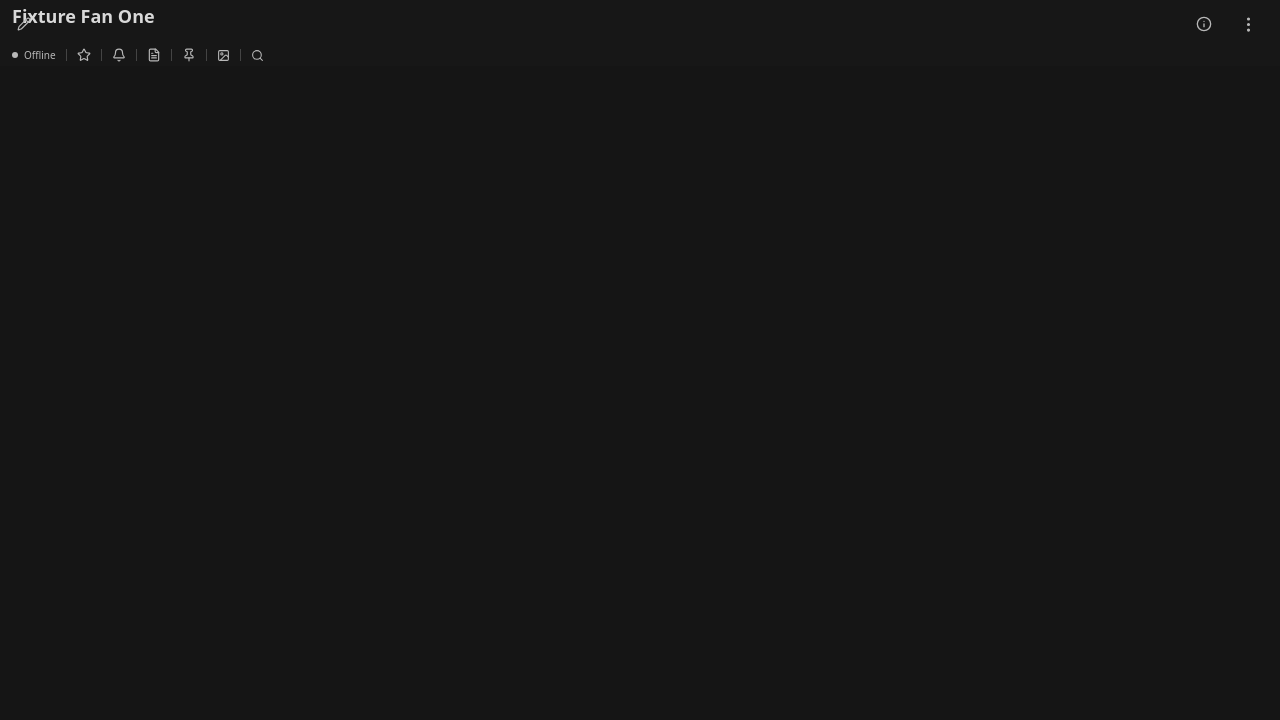
it: ChatHeader › Avatar menu (ticket 95) › "Add to lists ▸" lists the Creator's lists from the chat-folders route with the Fan's marked; a click POSTs the Fan onto a list, or DELETEs them from one they a
Step 1. Click the text "Fixture Fan One" → (83, 16), box [12, 4, 155, 28]
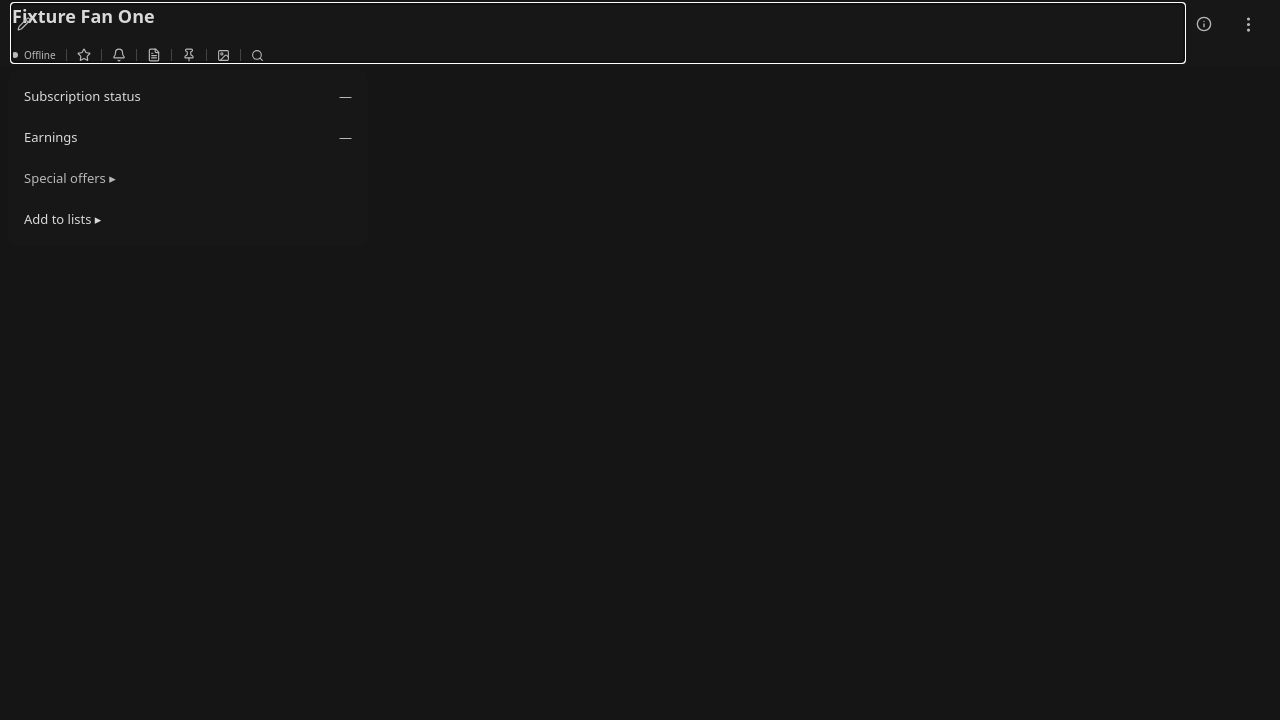
Step 2. Click the button "Add to lists ▸" → (63, 219), box [14, 199, 362, 240]
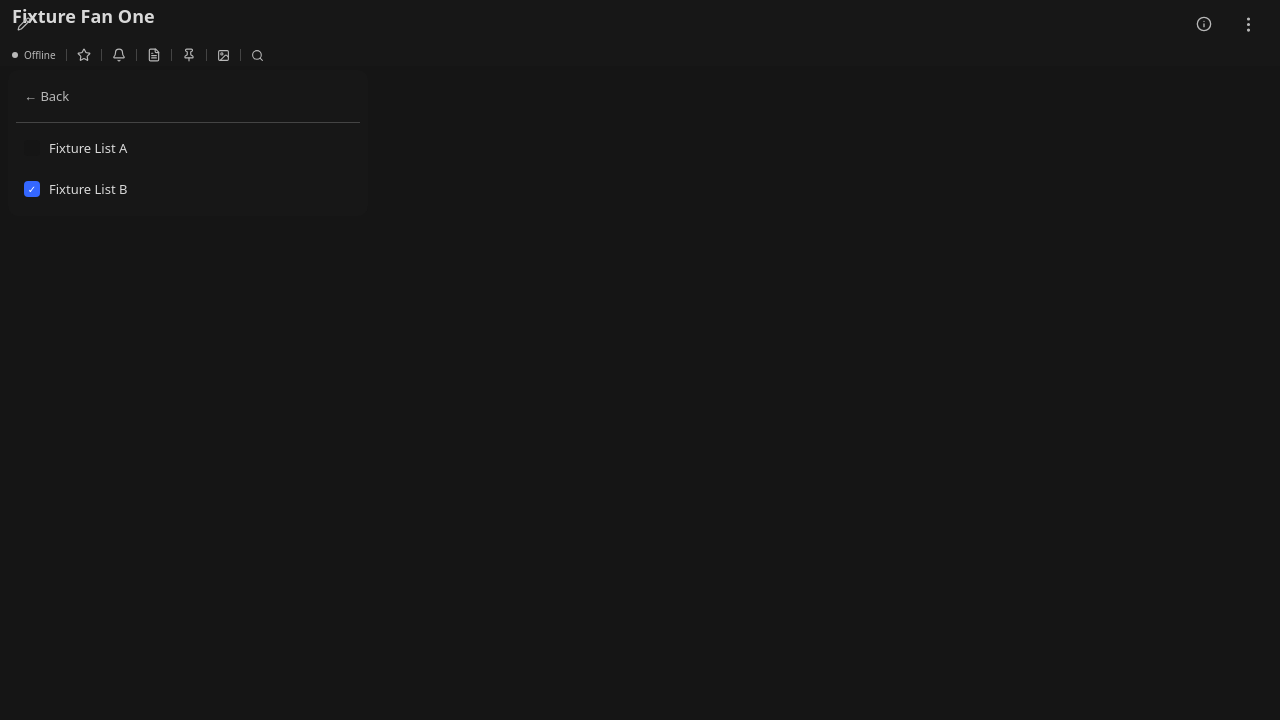
Step 3. Click the button "Fixture List A" → (88, 148), box [14, 128, 362, 169]
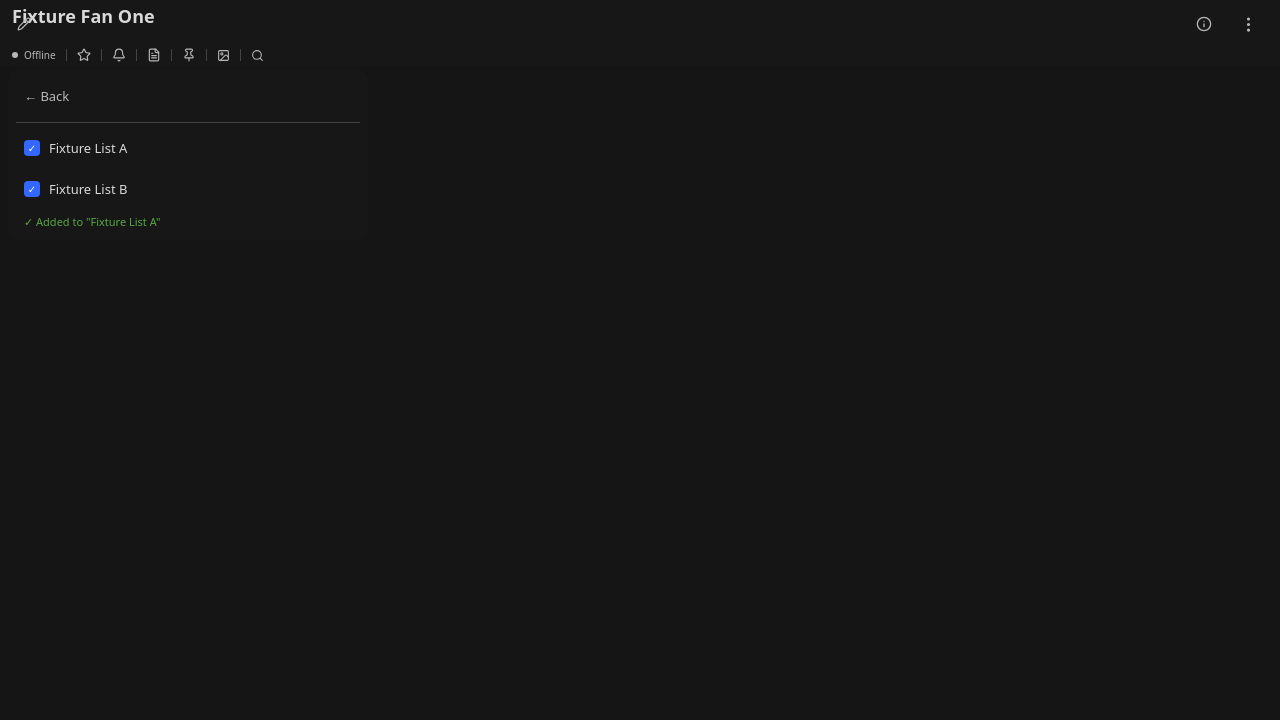
Result: the button "✓ Fixture List A" is pressed at [14, 128, 362, 169]
Step 4. Click the button "✓ Fixture List B" → (88, 189), box [14, 169, 362, 210]
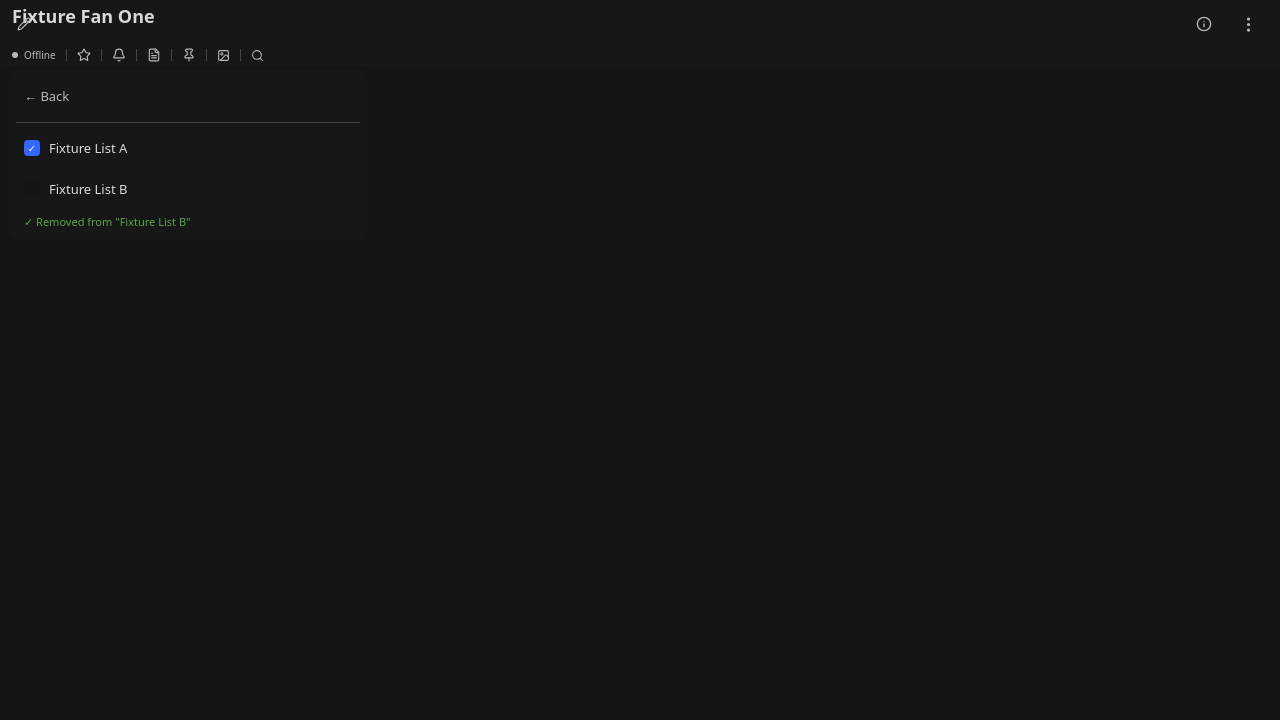
Step 5. Click the button named "More actions" → (1248, 24), box [1228, 4, 1268, 44]
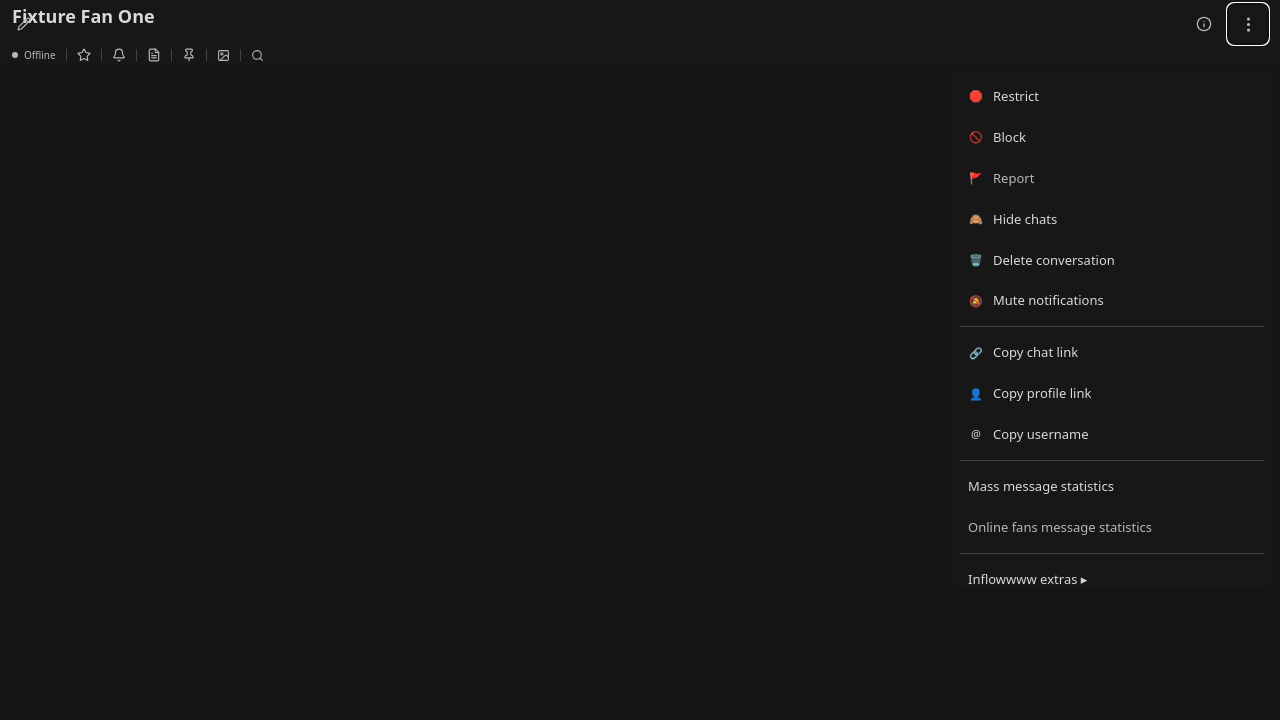
Expected: the button "Add to list" is not shown
Result: the button "🙈 Hide chats" is shown at [958, 199, 1266, 240]
